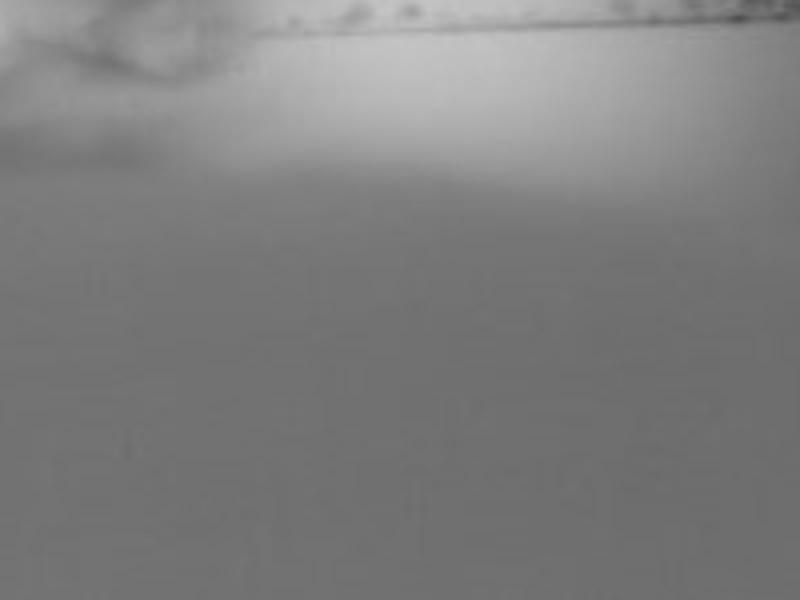defect: (331, 2, 371, 30), (399, 1, 426, 24), (741, 1, 781, 16), (608, 1, 644, 14), (672, 1, 708, 11), (284, 11, 301, 28)
